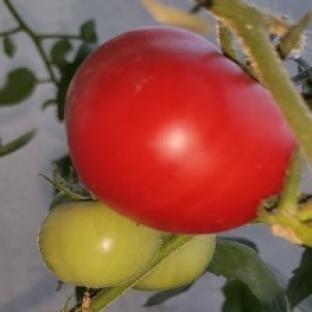Tomato: (66, 27, 295, 233), (39, 201, 161, 288), (134, 234, 215, 289)
